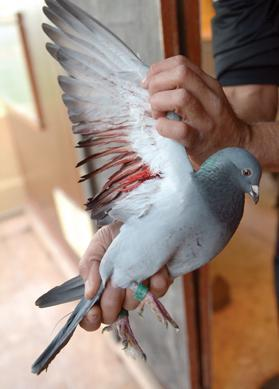fracture: (36, 4, 172, 221)
